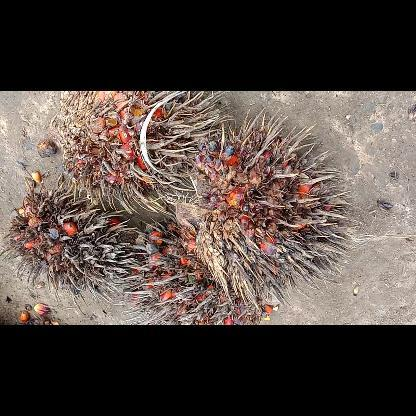Terlalu masak: (170, 102, 360, 314), (47, 90, 239, 218), (0, 172, 156, 320), (122, 198, 284, 324)
